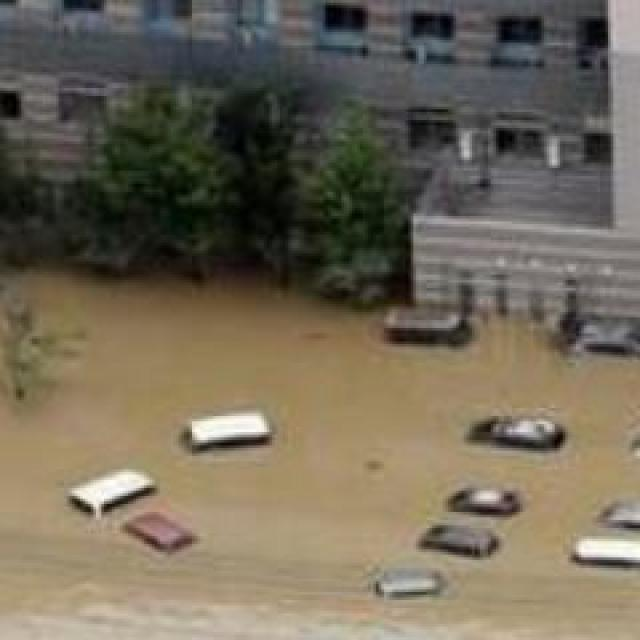flooded_areas: (0, 275, 632, 621)
